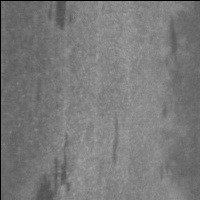inclusion: (49, 127, 75, 200), (161, 7, 184, 85), (103, 108, 130, 170), (45, 1, 69, 35)
